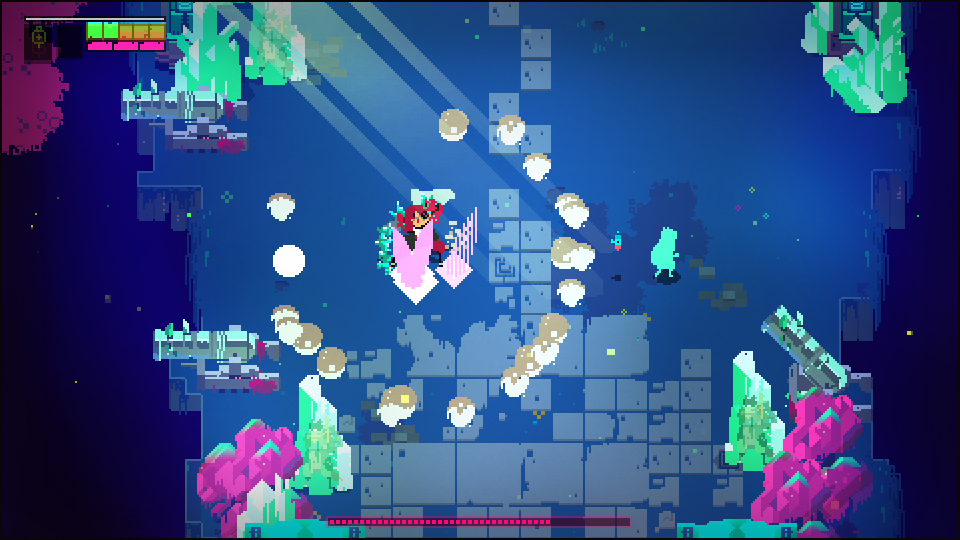hanged_crys: (390, 221, 437, 297), (440, 204, 482, 288)
hanged_man: (372, 185, 440, 220)
player: (648, 221, 683, 283)
